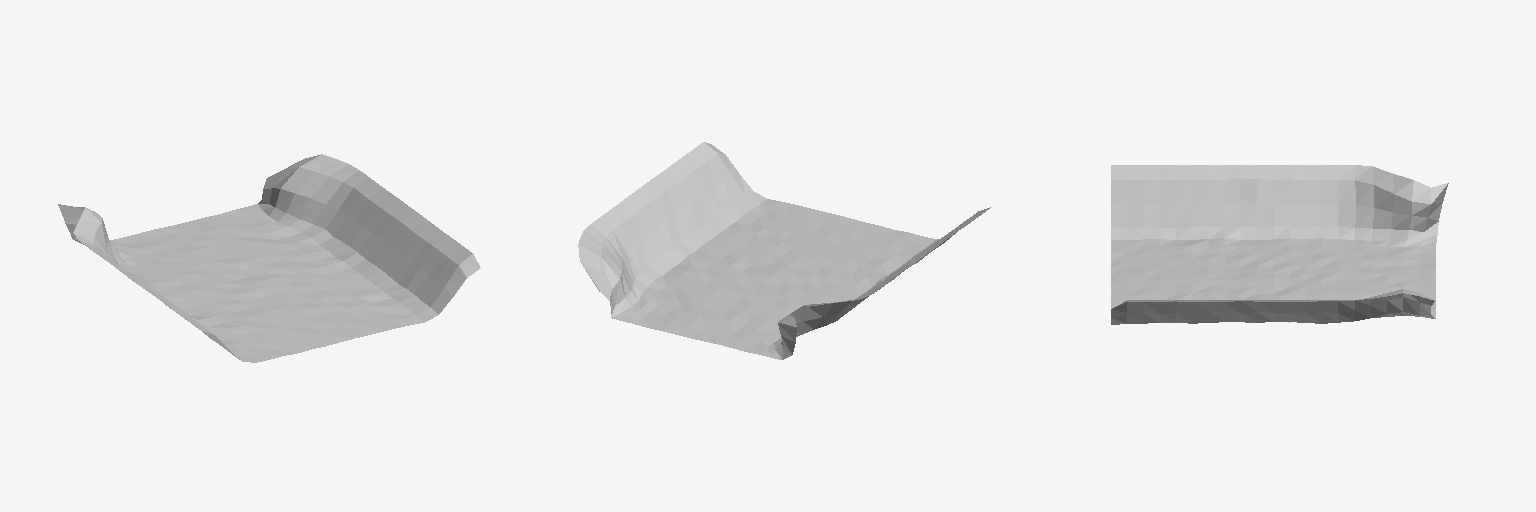
File: ground.obj
3 renders of one model, left to right at view 1: azimuth 30°, elevation 25°; view 2: azimuth 150°, elevation 25°; view 3: azimuth 270°, elevation 25°, orthographic.
Parts seen in each view (by area): view 1: ground_Grid; view 2: ground_Grid; view 3: ground_Grid.
Part boxes in pixels (bbox=[...]): ground_Grid: bbox=[58, 154, 480, 362]; ground_Grid: bbox=[578, 142, 990, 359]; ground_Grid: bbox=[1111, 165, 1448, 324].
Bounding box in the file's own units: 107 × 18.44 × 111.